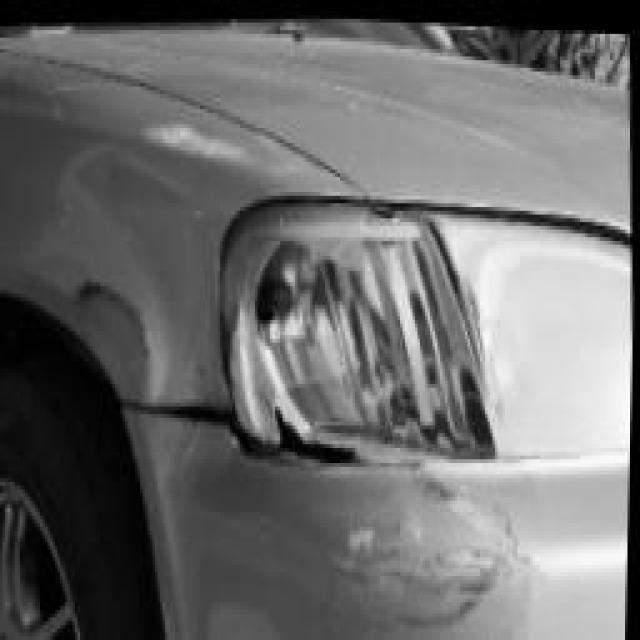Bumper: (120, 376, 528, 640)
Fender: (42, 230, 233, 411)
Light: (218, 196, 485, 490)
